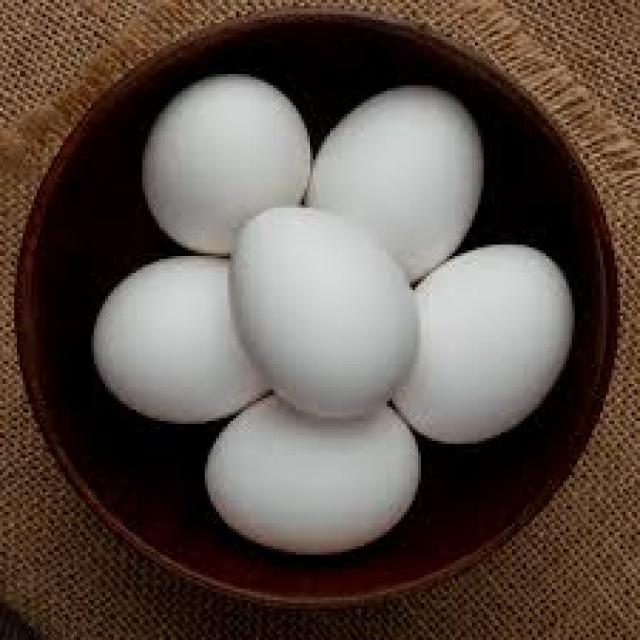White Egg: (229, 205, 432, 421), (388, 238, 585, 449), (198, 394, 425, 558), (309, 78, 489, 284), (89, 249, 286, 429), (140, 71, 310, 262)
